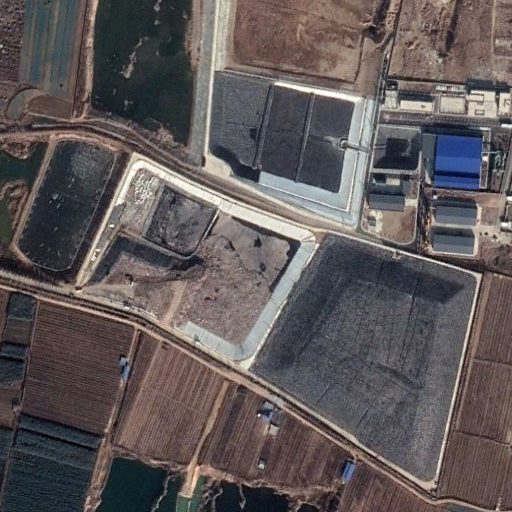lf: (88, 154, 478, 490), (207, 71, 374, 224)
